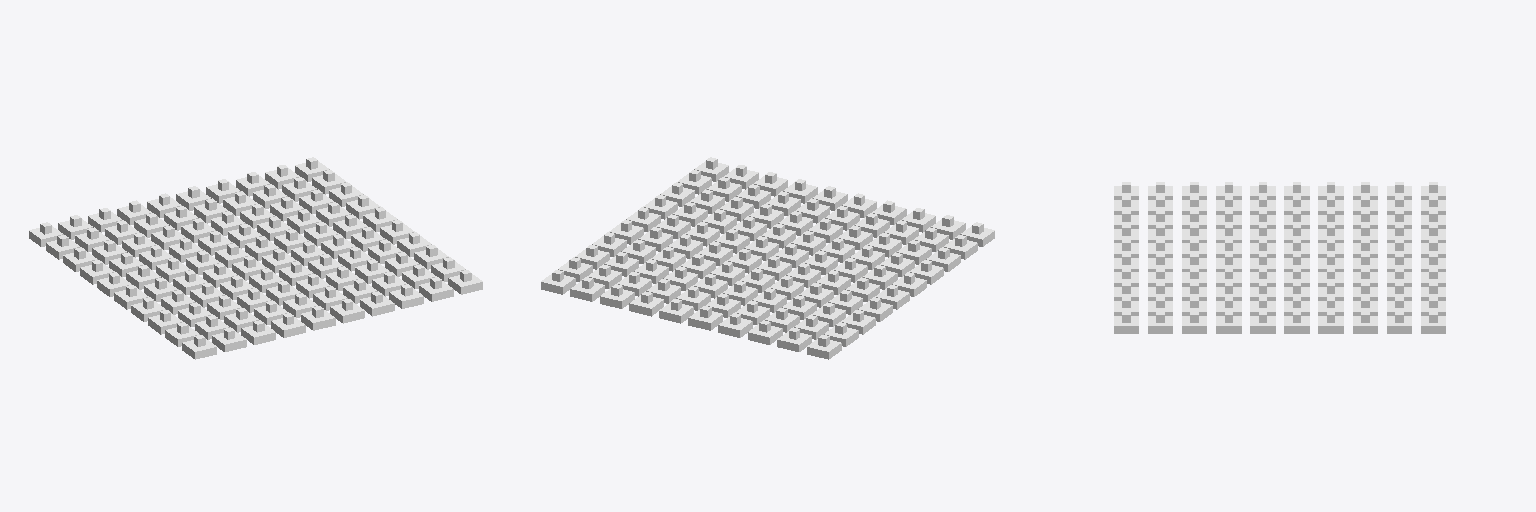
File: Barbs.obj
3 renders of one model, left to right at view 1: azimuth 30°, elevation 25°; view 2: azimuth 150°, elevation 25°; view 3: azimuth 270°, elevation 25°, orthographic.
Visible parts, largest first — view 1: object 1; view 2: object 1; view 3: object 1.
Part boxes in pixels (x1,y1,x2,y2): object 1: (29, 157, 482, 359); object 1: (541, 157, 994, 359); object 1: (1114, 182, 1445, 333).
Size of the model in its own units: 3.9 by 0.2 by 3.9.